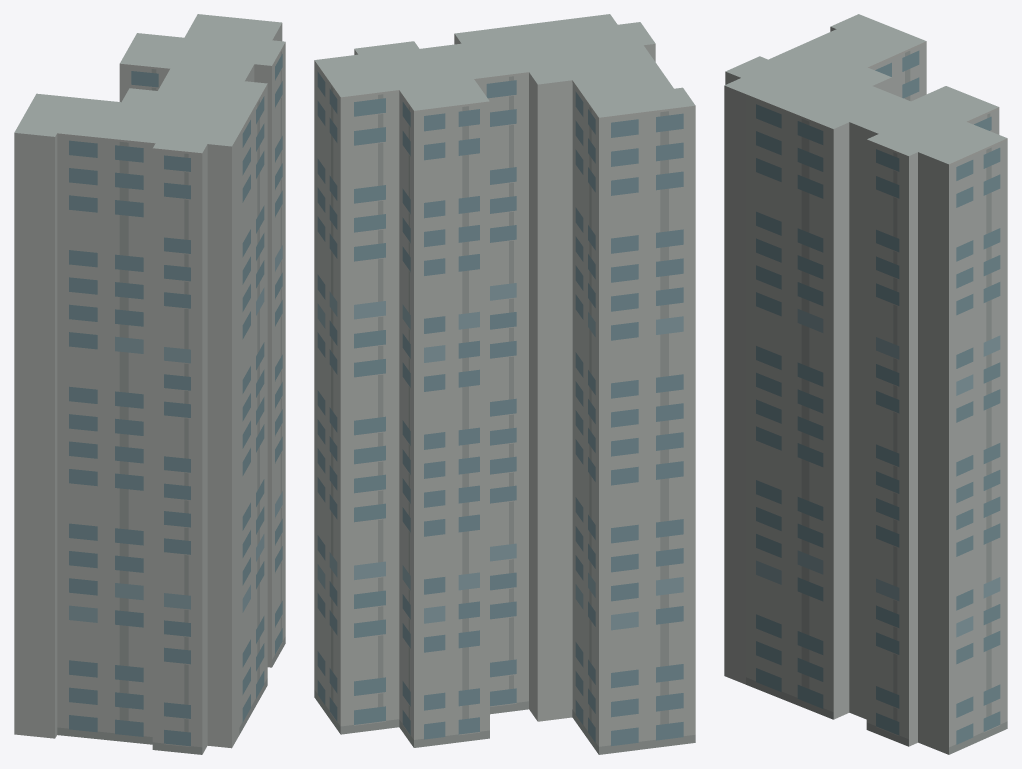
File: residential-cc9b764c-96b9-4b34-8680-2e05d66cb2c3.glb
The picture shows the model from 3 angles, left to right: view 1: azimuth 30°, elevation 25°; view 2: azimuth 150°, elevation 25°; view 3: azimuth 270°, elevation 25°; orthographic projection. The views are drawn at different scales.
Visible parts, largest first — view 1: residential-cc9b764c-96b9-4b34-8680-2e05d66cb2c3.tmp; view 2: residential-cc9b764c-96b9-4b34-8680-2e05d66cb2c3.tmp; view 3: residential-cc9b764c-96b9-4b34-8680-2e05d66cb2c3.tmp.
Boxes of the visible parts, box(x1,y1,x2,y2) form: residential-cc9b764c-96b9-4b34-8680-2e05d66cb2c3.tmp: box(14, 14, 285, 754); residential-cc9b764c-96b9-4b34-8680-2e05d66cb2c3.tmp: box(314, 14, 695, 754); residential-cc9b764c-96b9-4b34-8680-2e05d66cb2c3.tmp: box(724, 14, 1007, 754).
Size of the model in its own units: 38.79 by 71 by 30.87.
